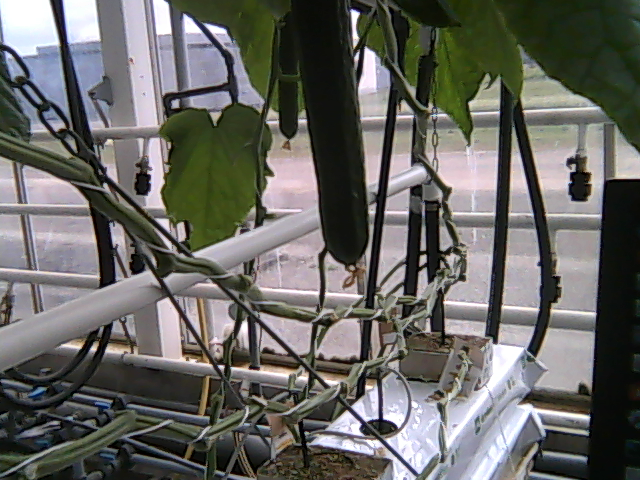concombre: (288, 1, 370, 293)
